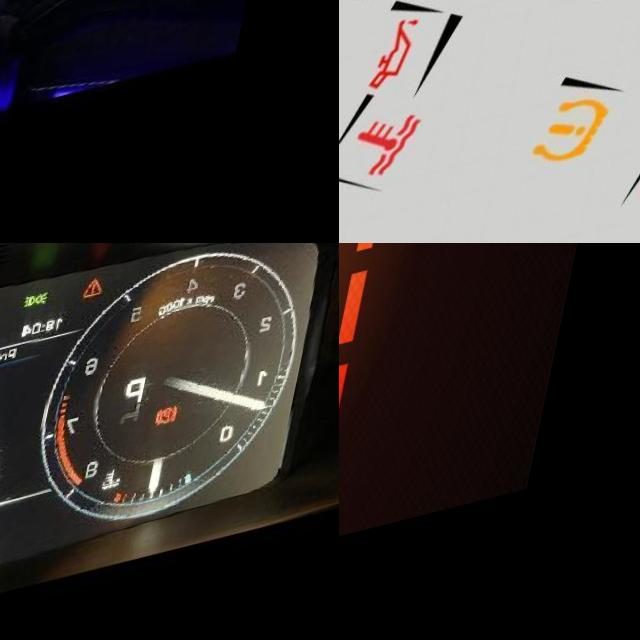Engine cooling system: (118, 485, 145, 512)
